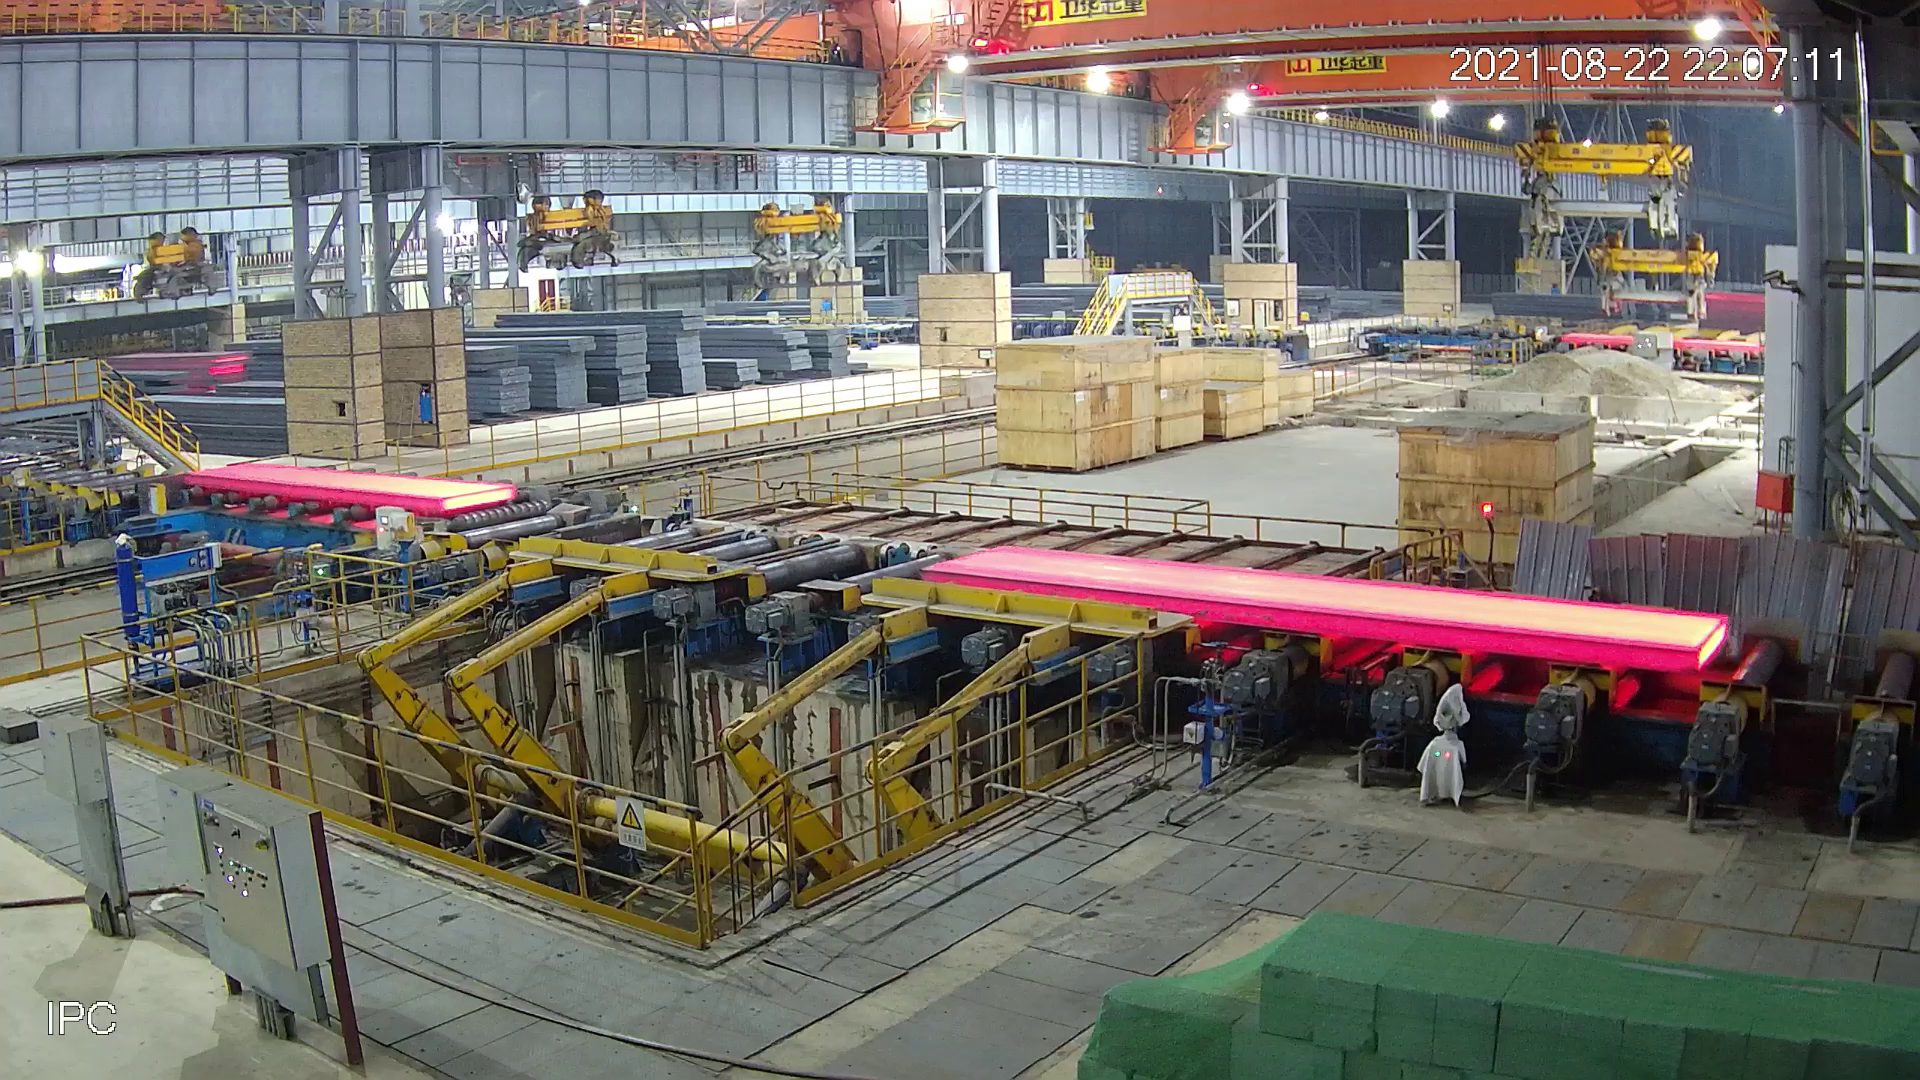slab: (920, 542, 1730, 673), (181, 464, 516, 510)
